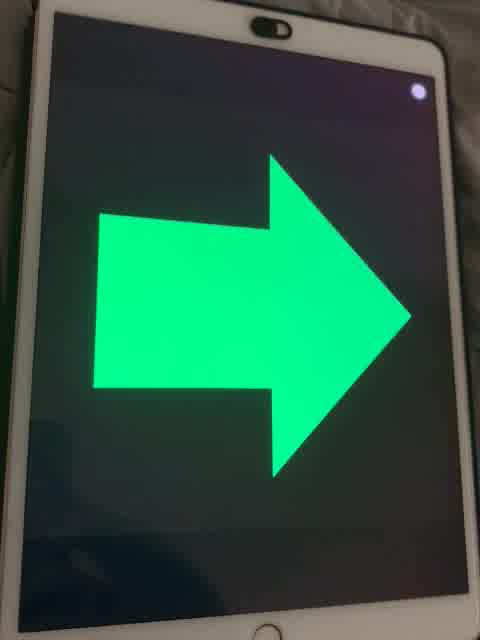right: (87, 134, 417, 480)
